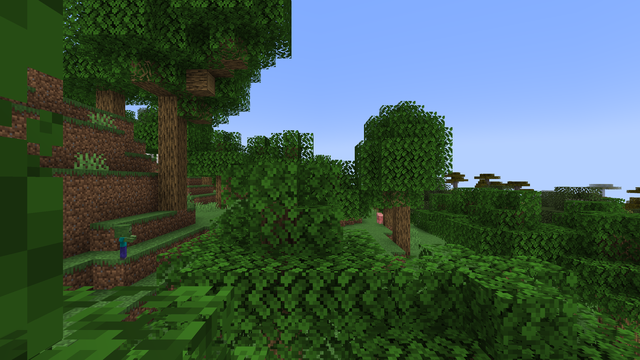cochons: (375, 214, 382, 223)
zombies: (115, 228, 131, 259)
